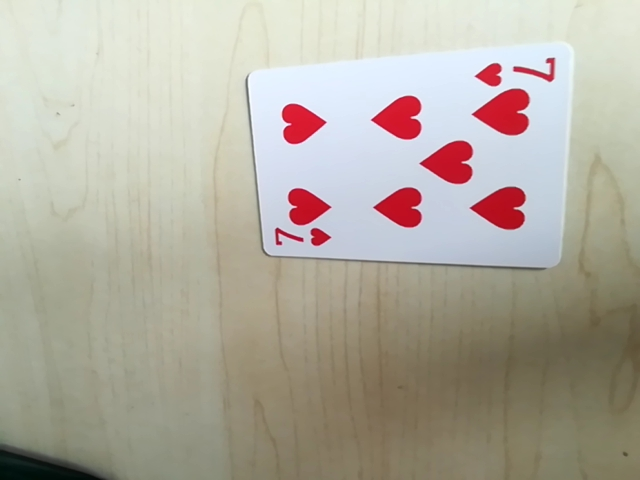hx 7: (473, 52, 561, 88), (266, 225, 334, 255)
